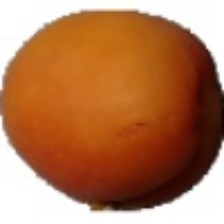apricot: (11, 33, 174, 179)
